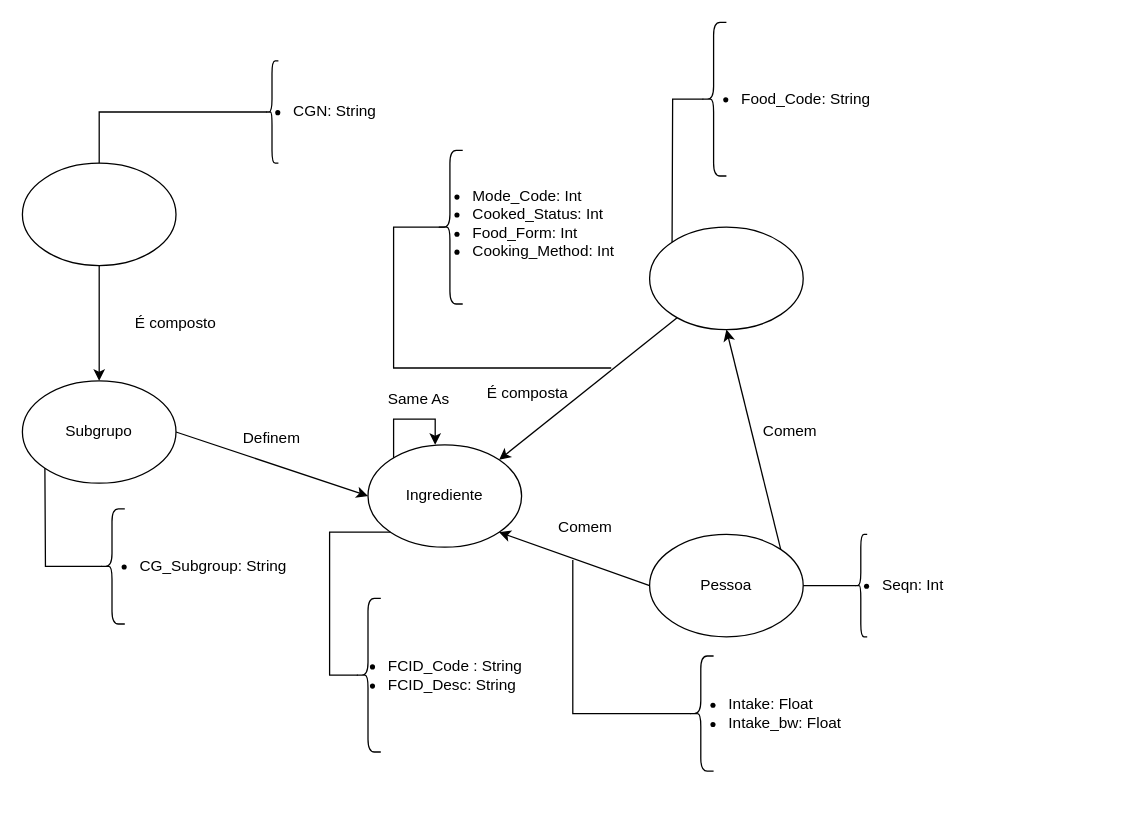
Image size: 1133x819. Some labels were removed from this diagram. The centre of each missing label's shape, as x and y in pixels:
Grupo: the point at 98,214
Receita: the point at 725,278
